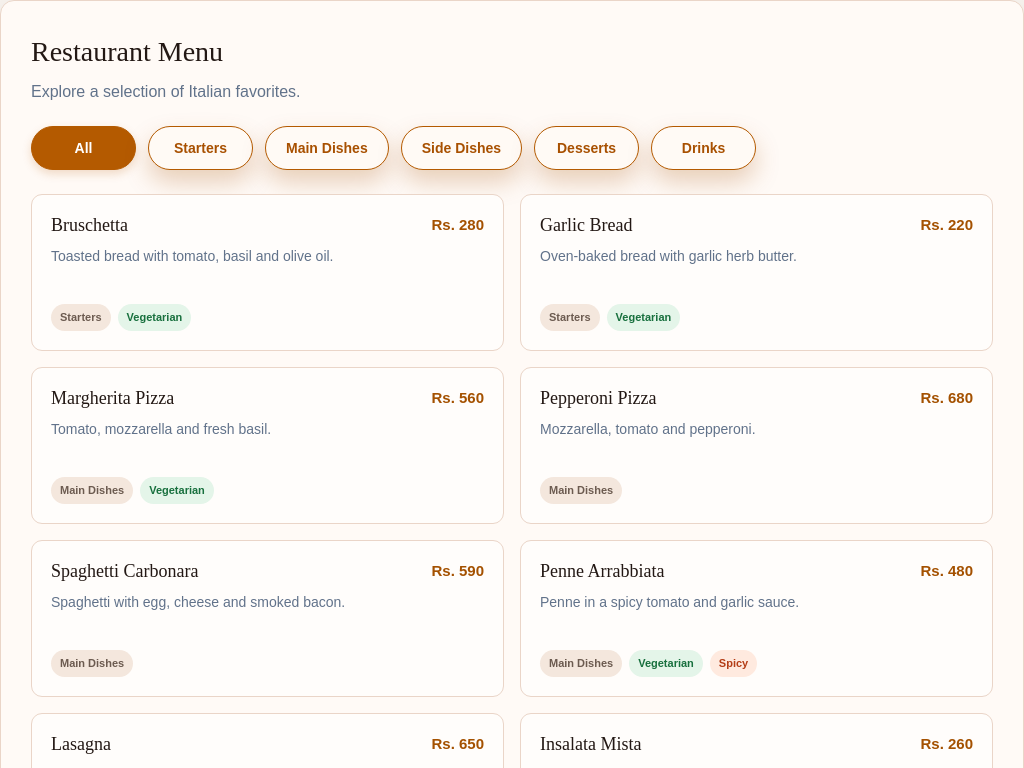
Test case: matches cuisine case-insensitively and filters visible menu items
Check: the heading "Restaurant Menu" is shown, box [31,36,223,67]
Check: the heading "Margherita Pizza" is shown, box [51,387,174,410]
Click the button "Desserts": [587, 148] box [534,126,639,170]
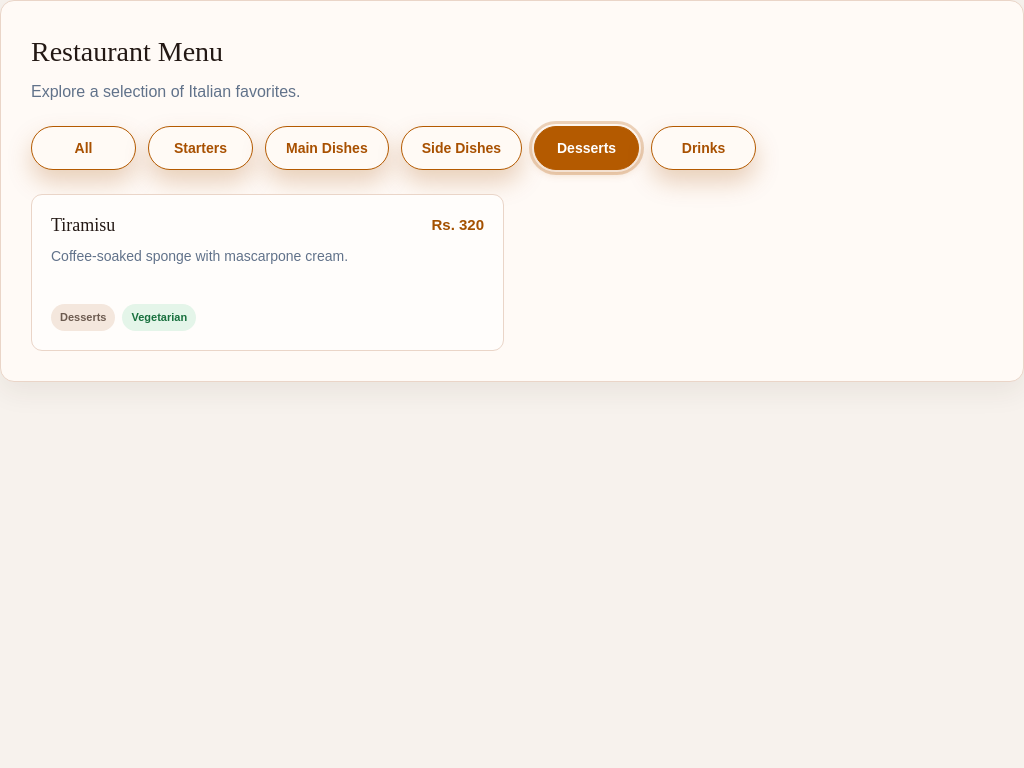
Check: the heading "Tiramisu" is shown, box [51,214,115,237]
Check: the heading "Margherita Pizza" is gone
